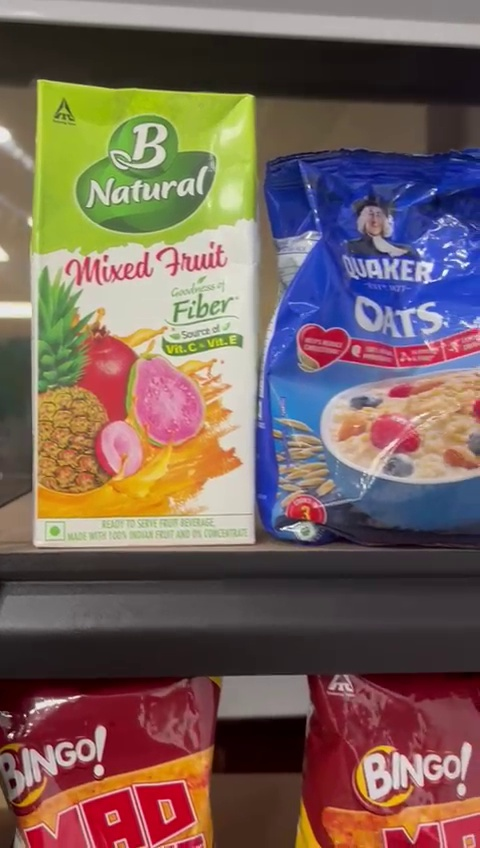Mixed Fruit: (31, 81, 258, 548)
